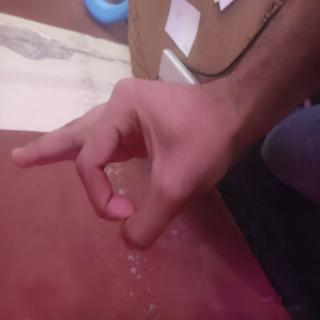Space: (47, 3, 186, 320)
